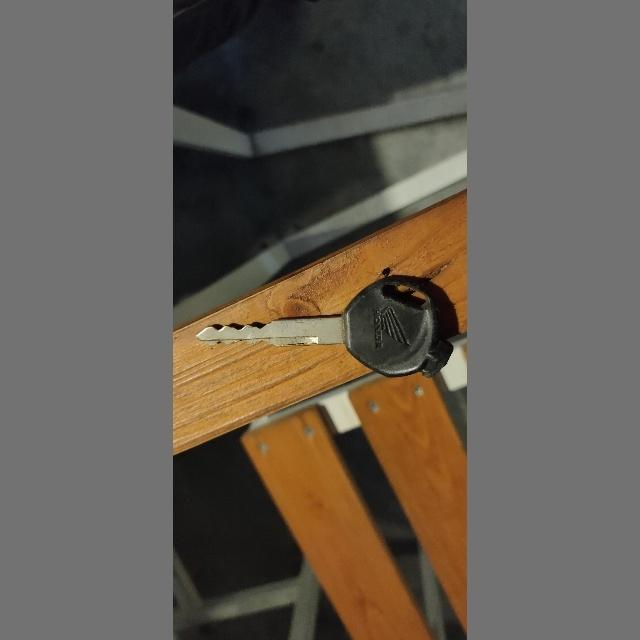Keys: (190, 270, 454, 386)
